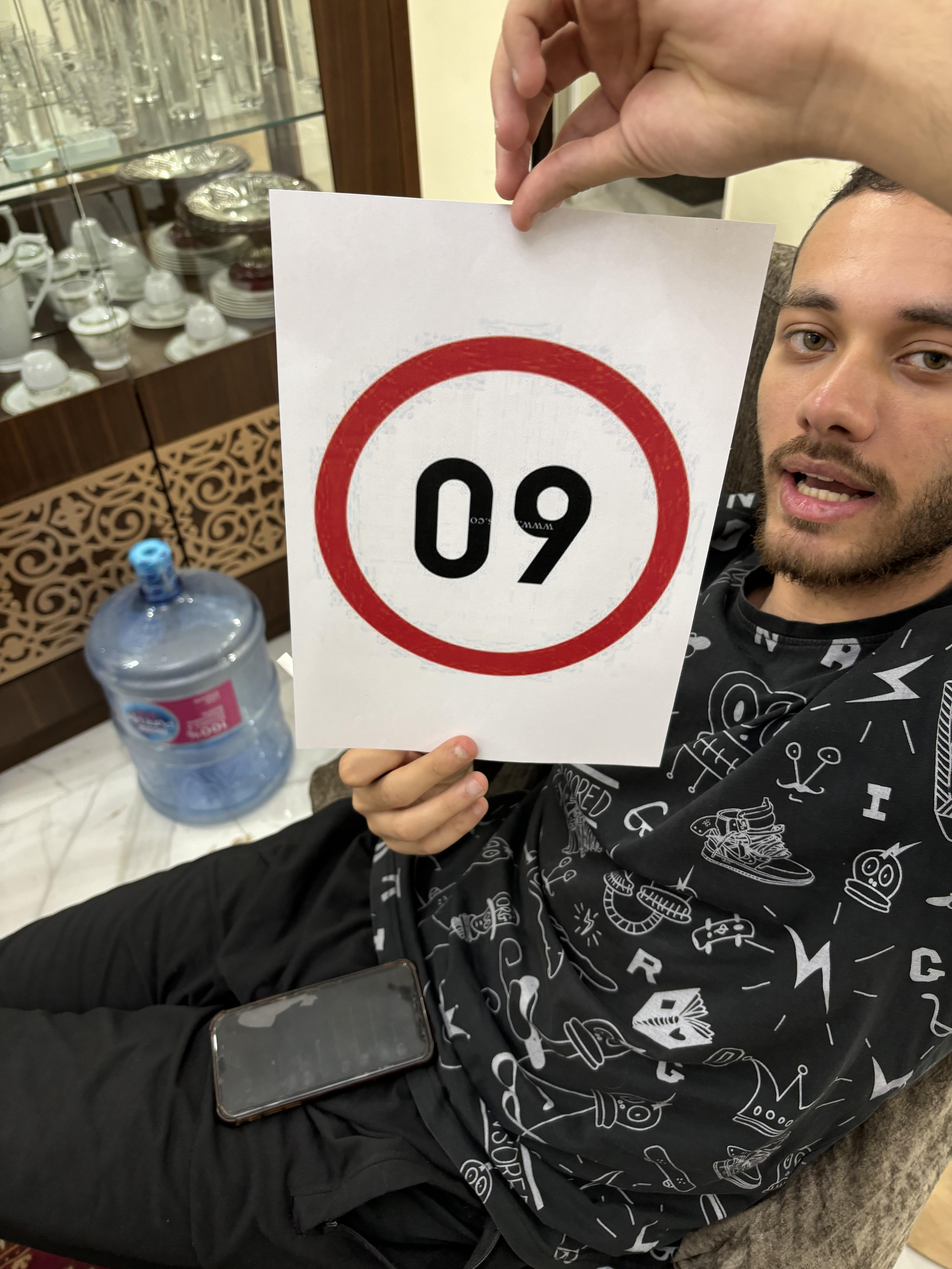60-Speed: (316, 323, 683, 684)
